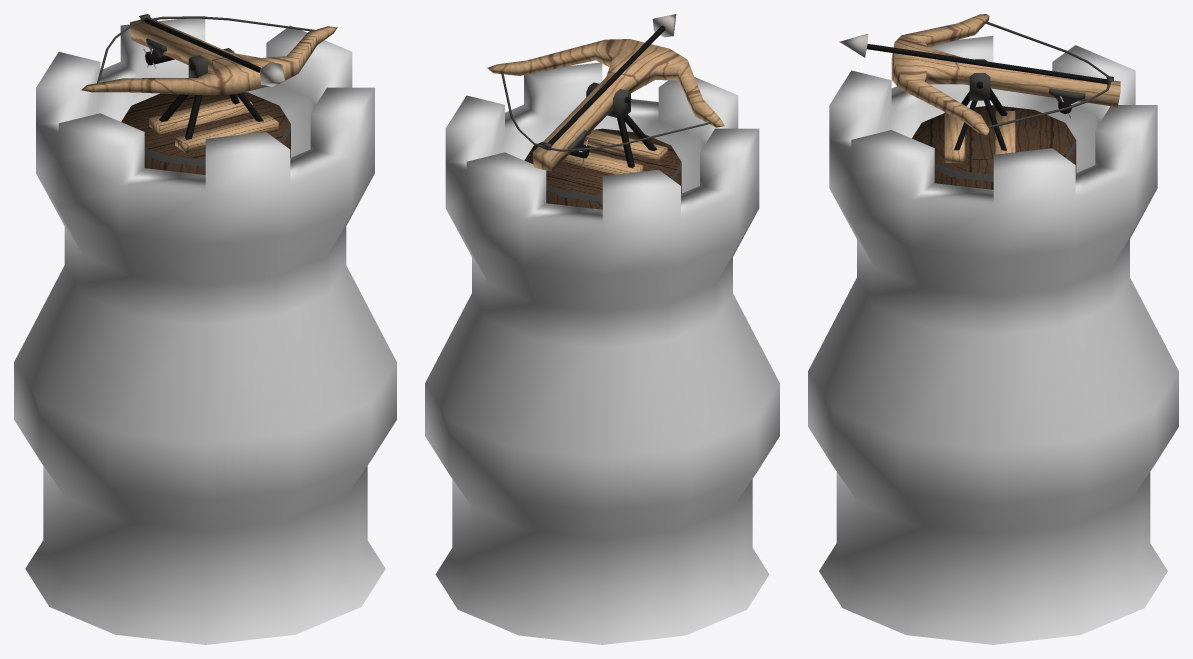
The model's file is Ballistatower.fbx.
The picture shows the model from 3 angles, left to right: view 1: azimuth 30°, elevation 25°; view 2: azimuth 150°, elevation 25°; view 3: azimuth 270°, elevation 25°; orthographic projection. The views are drawn at different scales.
Visible parts, largest first — view 1: Tower, Ballista; view 2: Tower, Ballista; view 3: Tower, Ballista.
Part boxes in pixels (x1,y1,x2,y2): Tower: [14, 16, 396, 644]; Ballista: [81, 14, 337, 174]; Tower: [425, 62, 779, 644]; Ballista: [487, 14, 724, 209]; Tower: [808, 36, 1178, 644]; Ballista: [839, 14, 1120, 189].
Size of the model in its own units: 4.73 by 7.55 by 4.73.
Materials: 2 (1 with a texture image).
